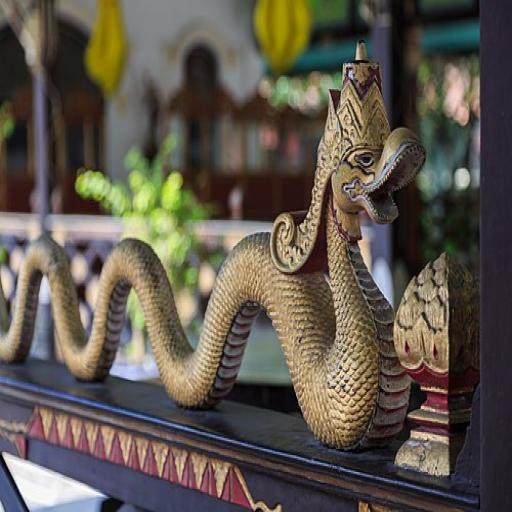hoa: (398, 248, 483, 395)
ran: (0, 48, 430, 452)
